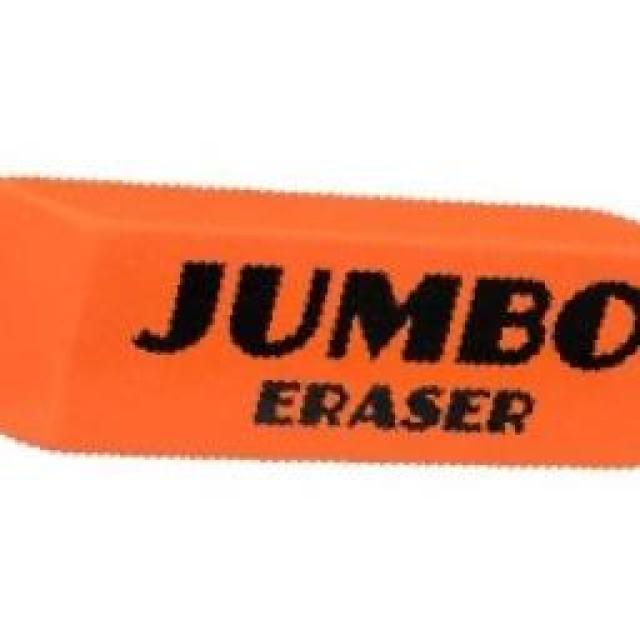Silgi: (0, 175, 640, 469)
